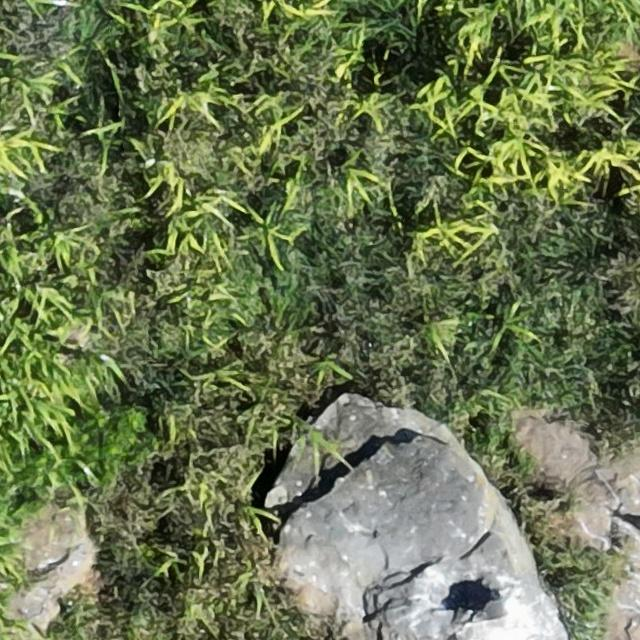umineko: (481, 599, 516, 621)
